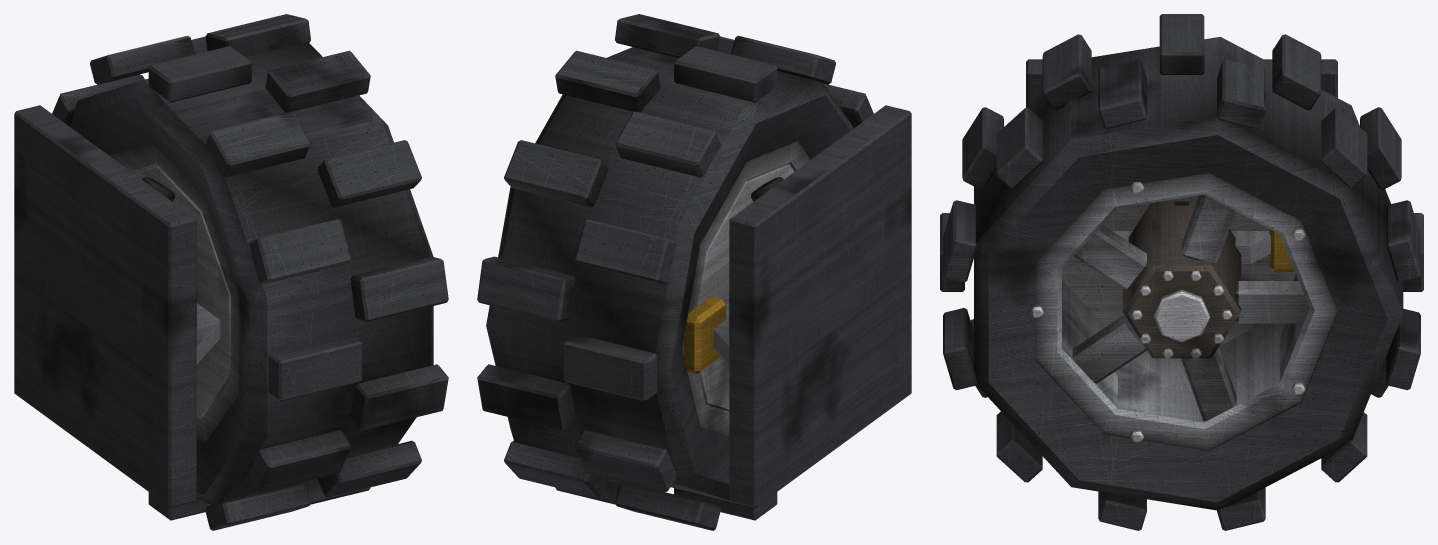
The model's file is R4M_WheelM_Side_Offroad_LOD1.glb.
The picture shows the model from 3 angles, left to right: view 1: azimuth 30°, elevation 25°; view 2: azimuth 150°, elevation 25°; view 3: azimuth 270°, elevation 25°; orthographic projection.
Visible parts, largest first — view 1: R4M_WheelM_Side_Offroad_LOD1; view 2: R4M_WheelM_Side_Offroad_LOD1; view 3: R4M_WheelM_Side_Offroad_LOD1.
Part boxes in pixels (x1,y1,x2,y2): R4M_WheelM_Side_Offroad_LOD1: [14, 14, 448, 530]; R4M_WheelM_Side_Offroad_LOD1: [477, 14, 911, 530]; R4M_WheelM_Side_Offroad_LOD1: [940, 14, 1423, 530].
Size of the model in its own units: 0.452 by 0.776 by 0.776.
5 materials, 5 textured.
